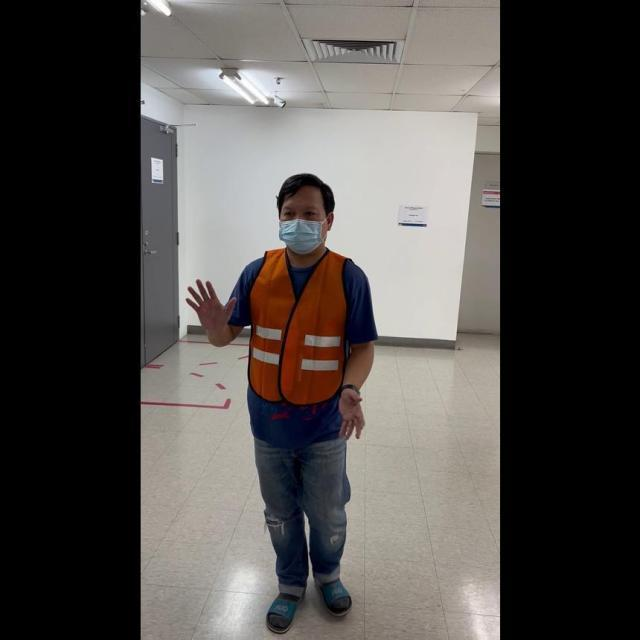bare_hand: (183, 273, 237, 336), (333, 383, 365, 443)
